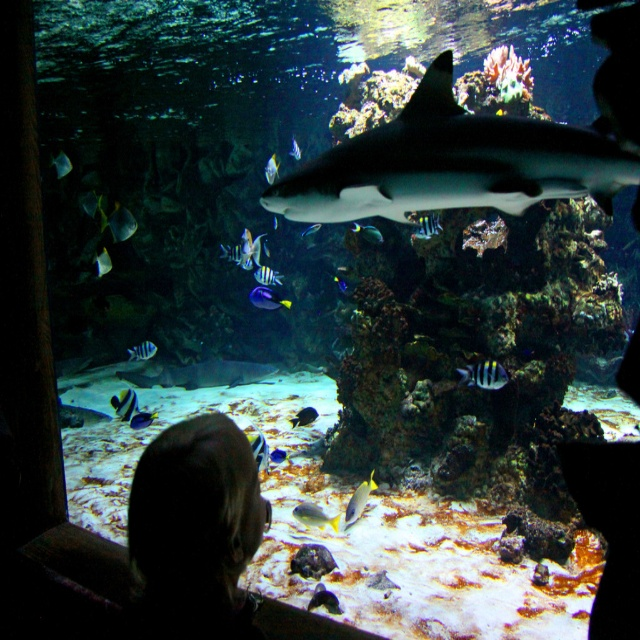Shark: (260, 49, 640, 230)
